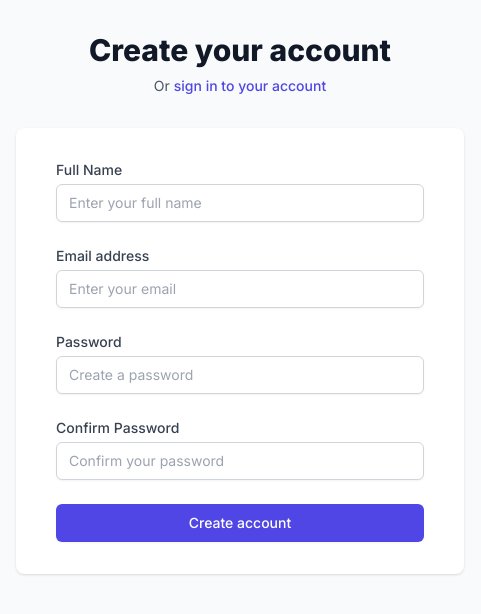
Scenario: Register Component › validates matching passwords
Type "John Doe" into the field labelled "Full Name" at (240, 203), box [56,184,424,222]
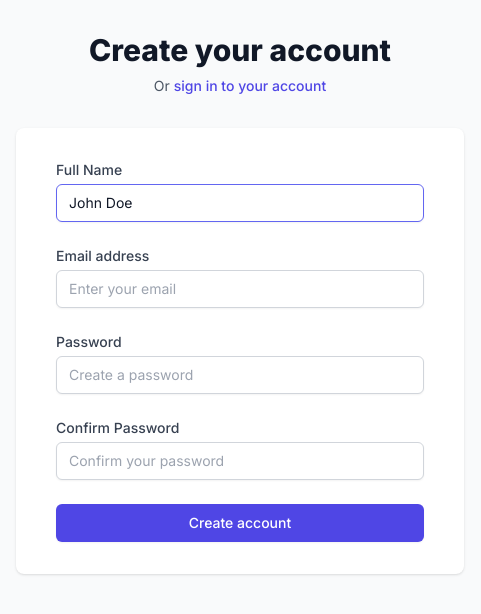
Type "john@example.com" into the field labelled "Email address" at (240, 289), box [56,270,424,308]
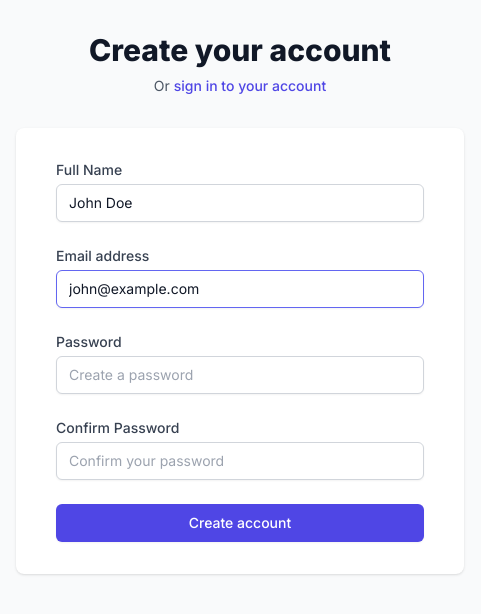
Type "password123" into the password field labelled "Password" at (240, 375), box [56,356,424,394]
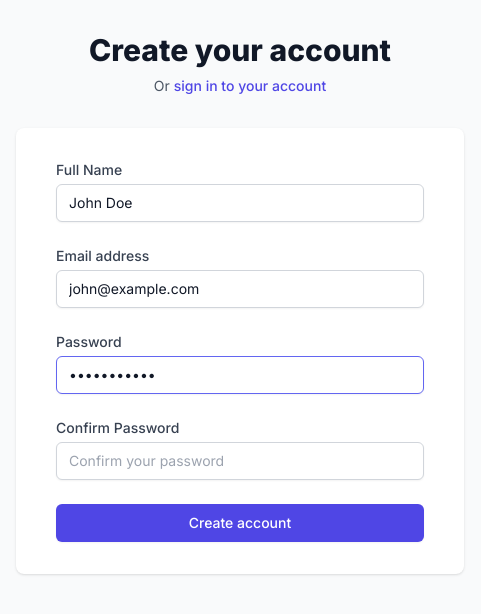
Type "password124" into the password field labelled "Confirm Password" at (240, 461), box [56,442,424,480]
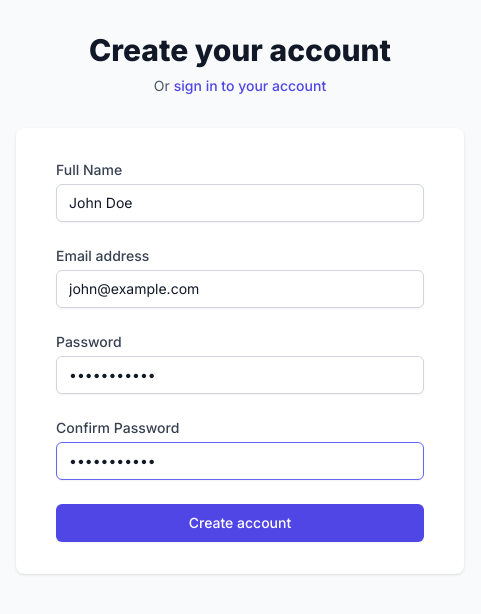
Submit the form from the button "Create account", box [56,504,424,542]
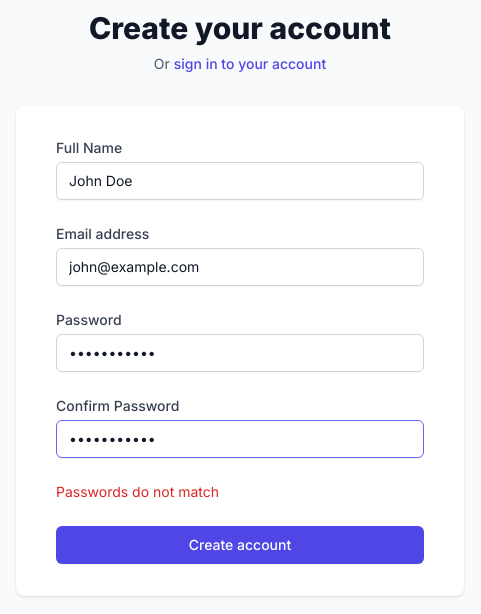
Now the text "Passwords do not match" is shown, box [56,483,219,500]
